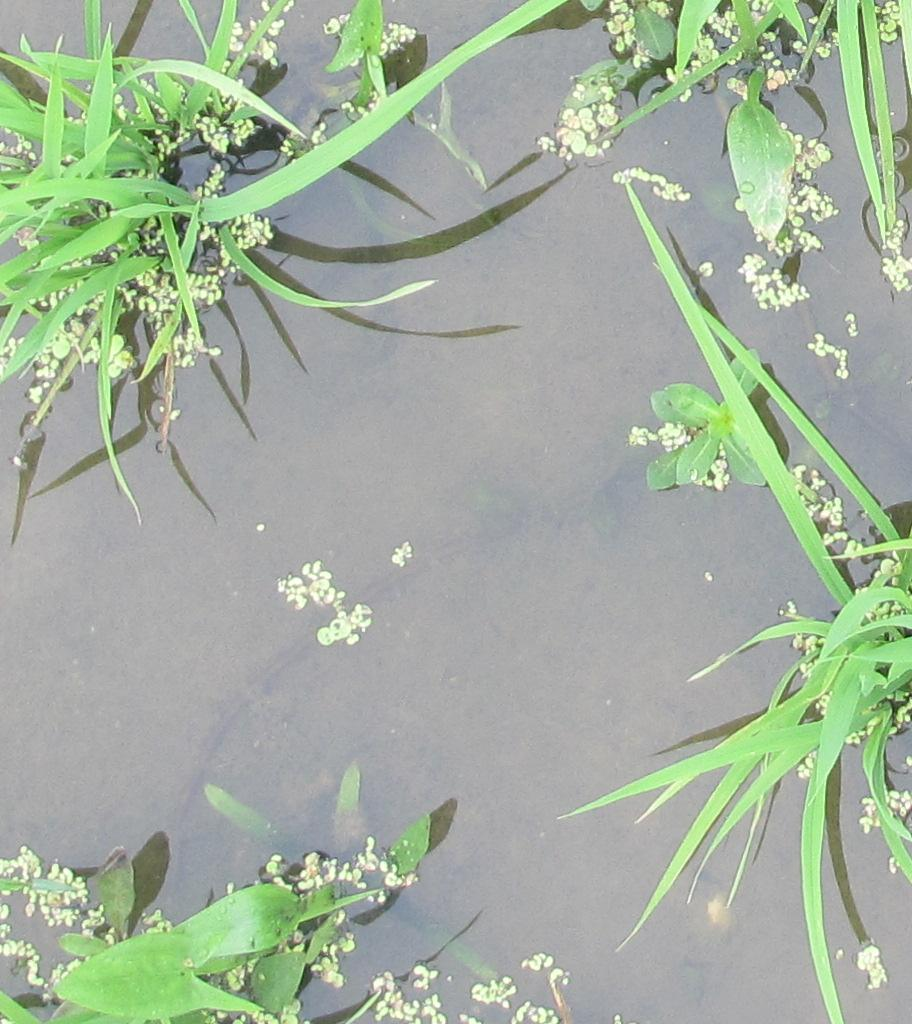Weed: (52, 885, 319, 1008), (716, 75, 807, 244)
